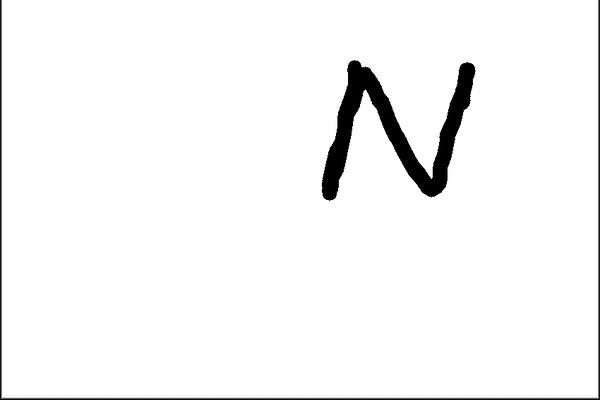N: (313, 49, 479, 206)
